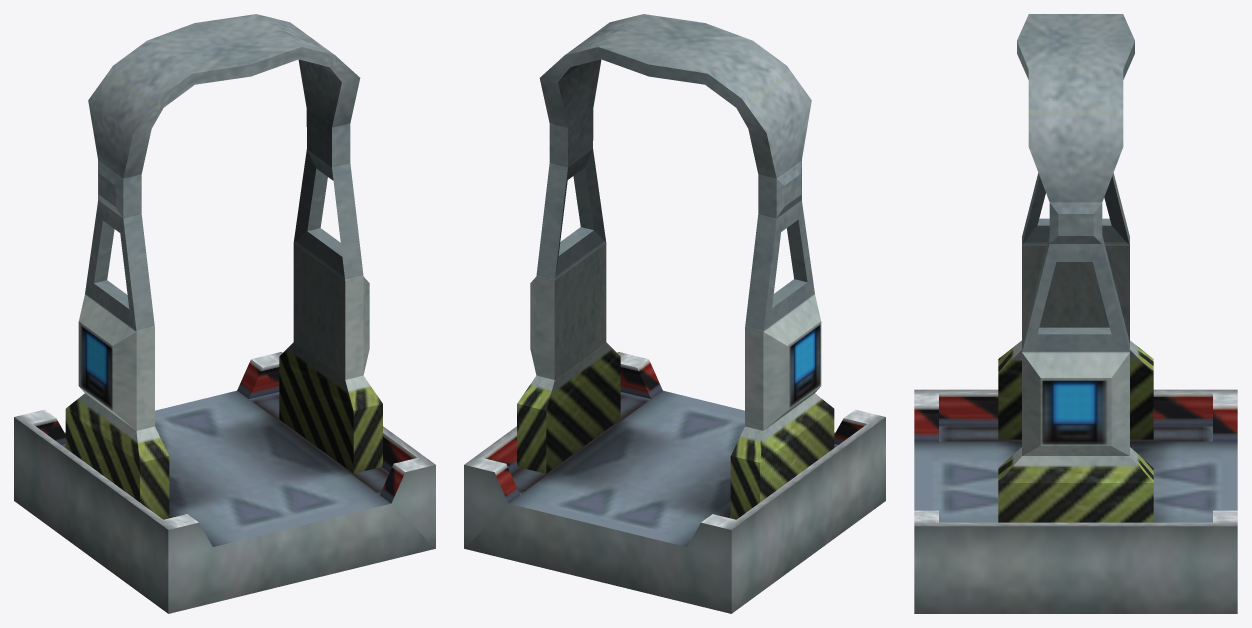
File: ind_tile_door.obj
3 views of the same model, side by side, from view 1: azimuth 30°, elevation 25°; view 2: azimuth 150°, elevation 25°; view 3: azimuth 270°, elevation 25° (orthographic). The views are drawn at different scales.
Parts seen in each view (by area): view 1: gate; view 2: gate; view 3: gate.
Boxes of the visible parts, x1,y1,x2,y2 form: gate: [14, 14, 435, 613]; gate: [464, 14, 885, 613]; gate: [914, 14, 1237, 613].
Size of the model in its own units: 1 by 1.72 by 1.
1 material, 1 textured.
